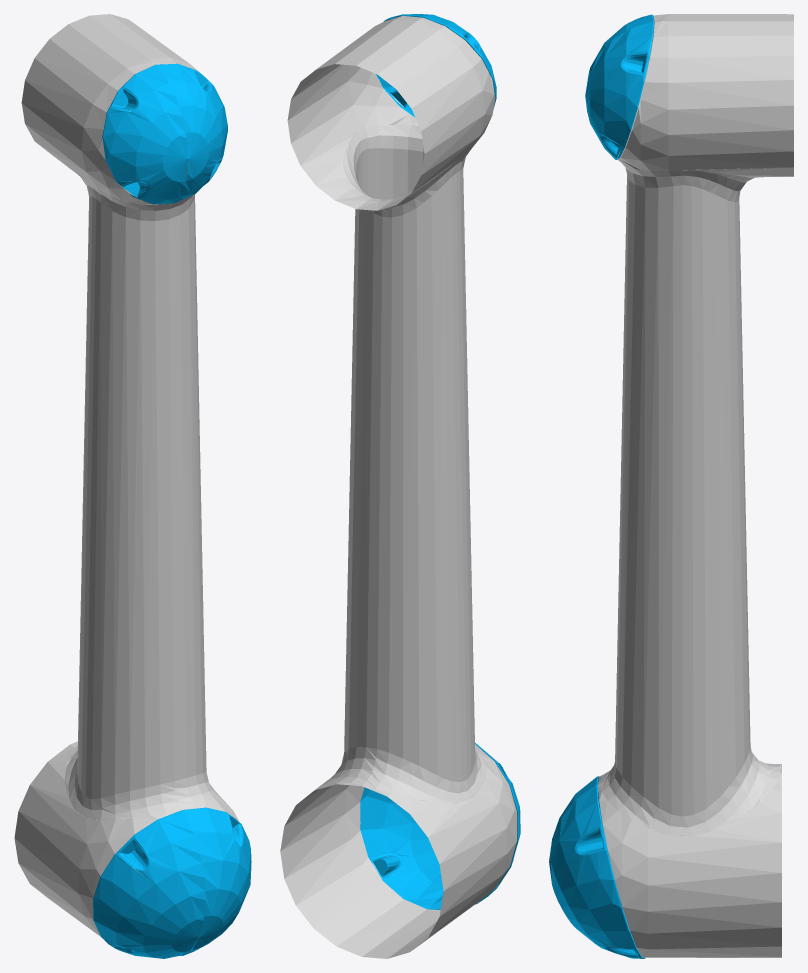
3 renders of one model, left to right at view 1: azimuth 30°, elevation 25°; view 2: azimuth 150°, elevation 25°; view 3: azimuth 270°, elevation 25°, orthographic. The views are drawn at different scales.
Visible parts, largest first — view 1: HC10.001, HC10.002, HC10.003; view 2: HC10.001, HC10.002, HC10.003; view 3: HC10.001, HC10.002, HC10.003.
Part boxes in pixels (x1,y1,x2,y2): HC10.001: (14, 14, 239, 936); HC10.002: (93, 807, 251, 958); HC10.003: (102, 63, 227, 204); HC10.001: (280, 15, 517, 958); HC10.002: (360, 742, 520, 909); HC10.003: (376, 14, 496, 117); HC10.001: (598, 14, 793, 957); HC10.002: (549, 776, 645, 958); HC10.003: (585, 14, 654, 159).
Size of the model in its own units: 16.2 by 85 by 20.3.
